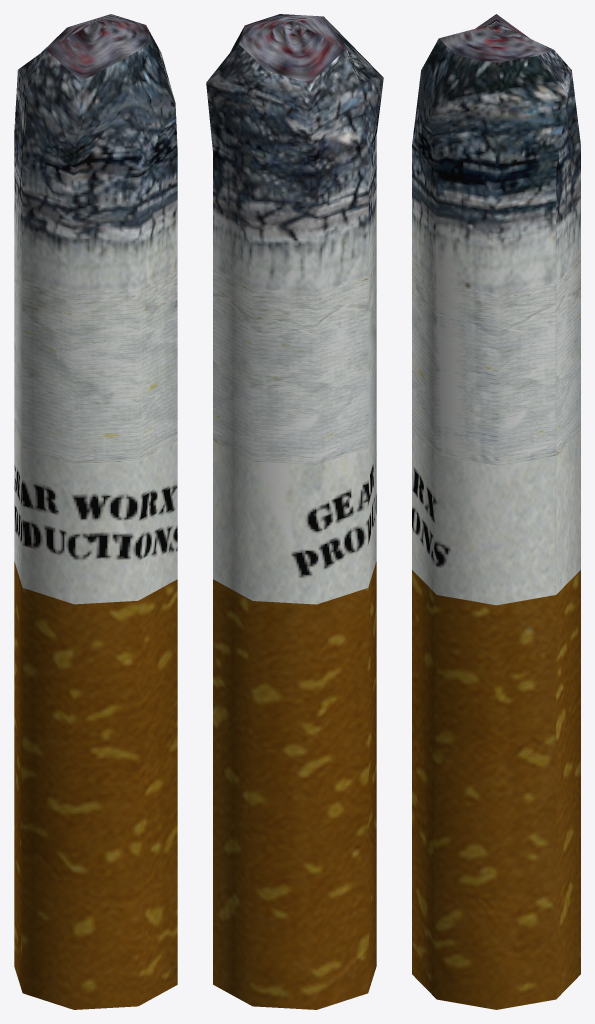
File: cig_butt.fbx
3 views of the same model, side by side, from view 1: azimuth 30°, elevation 25°; view 2: azimuth 150°, elevation 25°; view 3: azimuth 270°, elevation 25° (orthographic).
Visible parts, largest first — view 1: Cig; view 2: Cig; view 3: Cig.
Boxes of the visible parts, box(x1,y1,x2,y2) form: Cig: box(14, 14, 177, 1009); Cig: box(206, 14, 383, 1009); Cig: box(412, 14, 580, 1009).
Size of the model in its own units: 0.0122 by 0.0755 by 0.0122.
